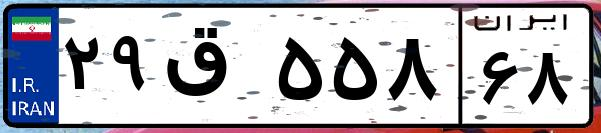2: (57, 26, 110, 100)
5: (270, 28, 330, 110), (330, 28, 385, 110)
6: (475, 38, 525, 113)
8: (385, 28, 445, 110), (525, 38, 570, 115)
9: (110, 28, 158, 98)
ق: (158, 20, 270, 120)
